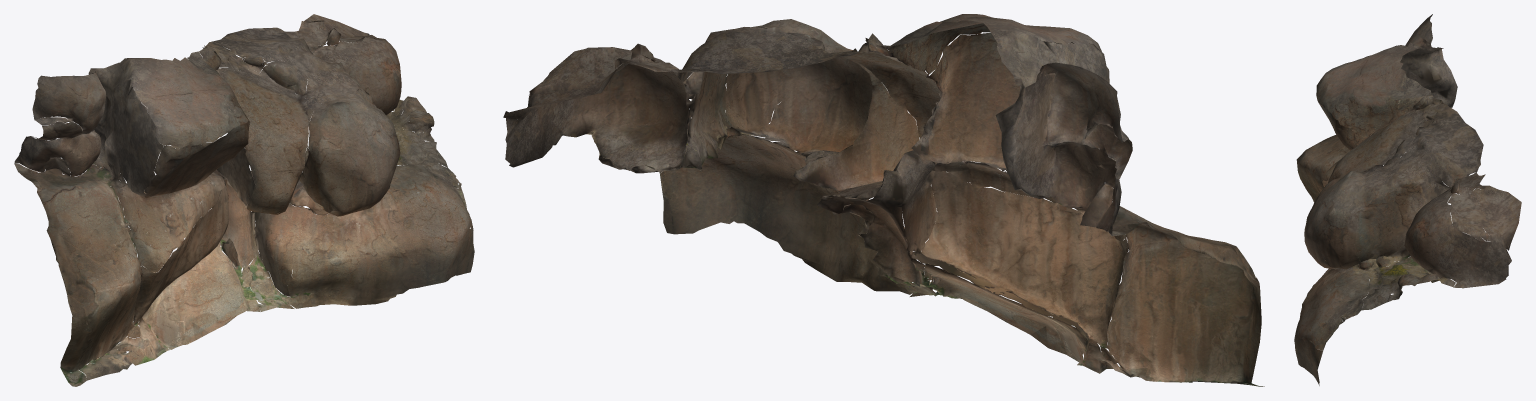
The model's file is namaqualand_cliff_01.glb.
3 renders of one model, left to right at view 1: azimuth 30°, elevation 25°; view 2: azimuth 150°, elevation 25°; view 3: azimuth 270°, elevation 25°, orthographic. The views are drawn at different scales.
Visible parts, largest first — view 1: namaqualand_cliff_01_6000; view 2: namaqualand_cliff_01_6000; view 3: namaqualand_cliff_01_6000.
Boxes of the visible parts, bbox=[...] form: namaqualand_cliff_01_6000: bbox=[14, 14, 474, 386]; namaqualand_cliff_01_6000: bbox=[503, 14, 1264, 386]; namaqualand_cliff_01_6000: bbox=[1294, 14, 1521, 385].
Bounding box in the file's own units: 8.27 × 4.96 × 4.39.
Materials: 1 (1 with a texture image).
